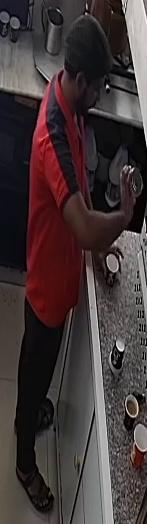no_apron: (21, 69, 95, 309)
